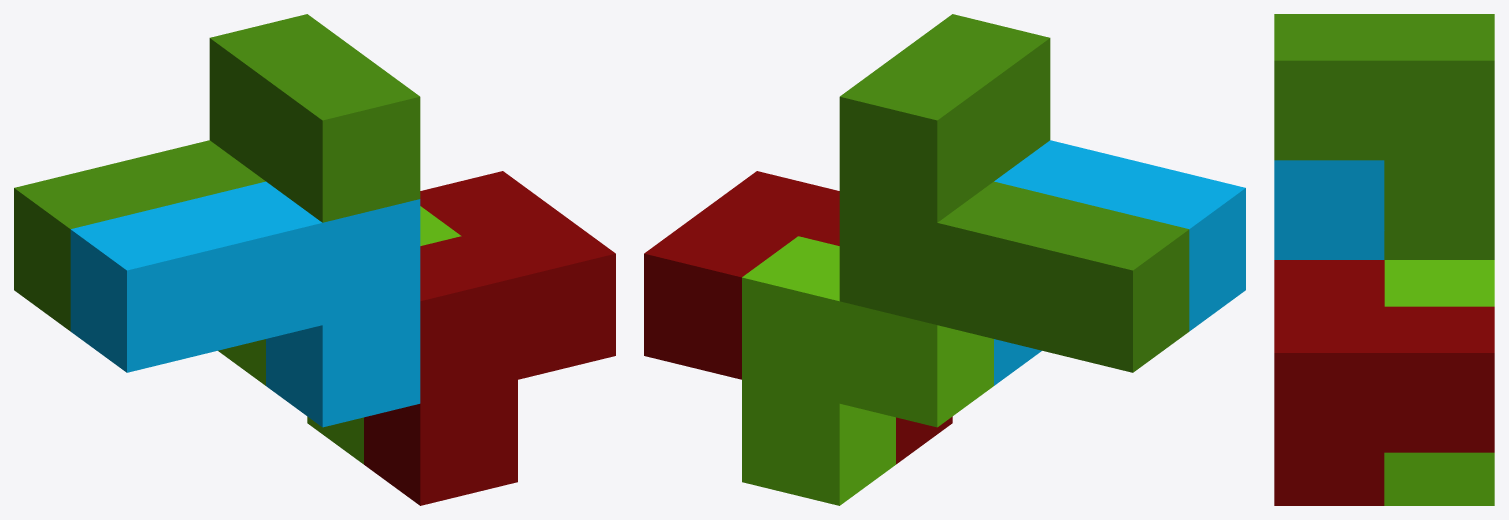
3 renders of one model, left to right at view 1: azimuth 30°, elevation 25°; view 2: azimuth 150°, elevation 25°; view 3: azimuth 270°, elevation 25°, orthographic. The views are drawn at different scales.
Visible parts, largest first — view 1: mergedBlocks(Clone); view 2: mergedBlocks(Clone); view 3: mergedBlocks(Clone).
Boxes of the visible parts, x1,y1,x2,y2 form: mergedBlocks(Clone): [14, 14, 615, 505]; mergedBlocks(Clone): [644, 14, 1245, 505]; mergedBlocks(Clone): [1274, 14, 1494, 505].
Size of the model in its own units: 5 by 4 by 2.
Materials: 4 (4 with a texture image).
